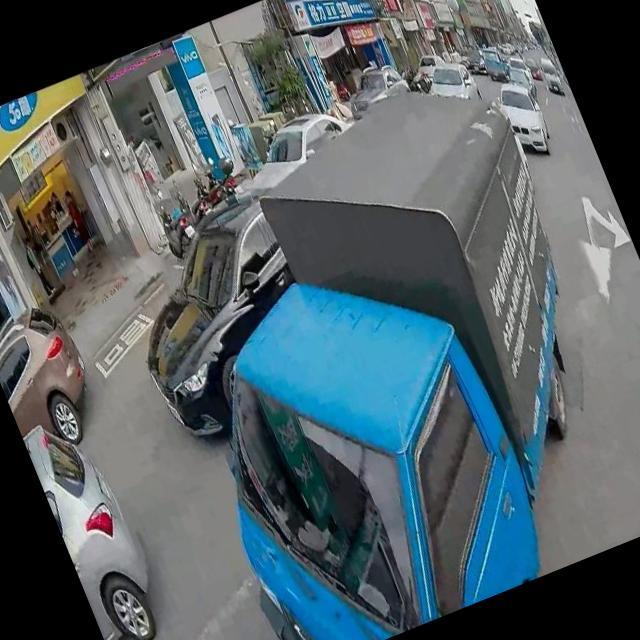person: (15, 227, 62, 304), (58, 187, 96, 256)
